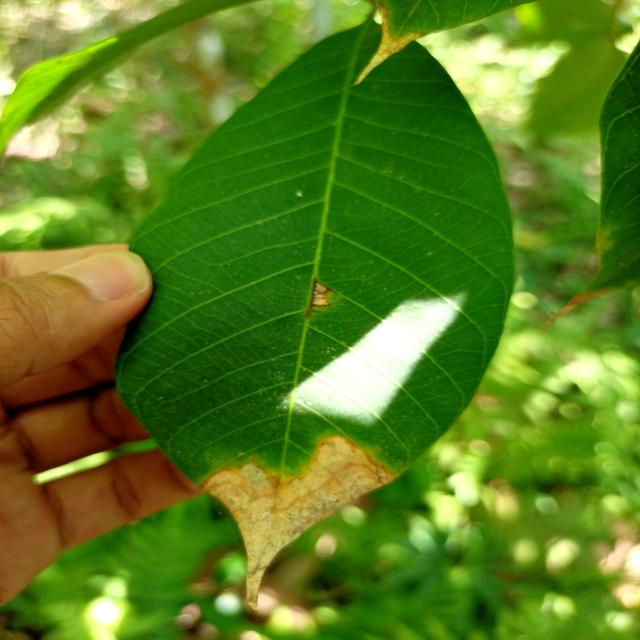Corynespora: (305, 276, 339, 320)
Leaf-Blight: (200, 436, 398, 611)
